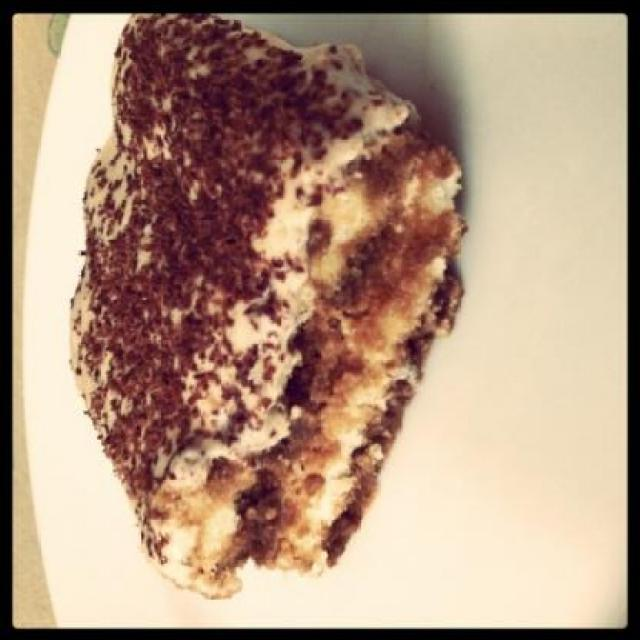Tiramisu: (44, 39, 462, 575)
